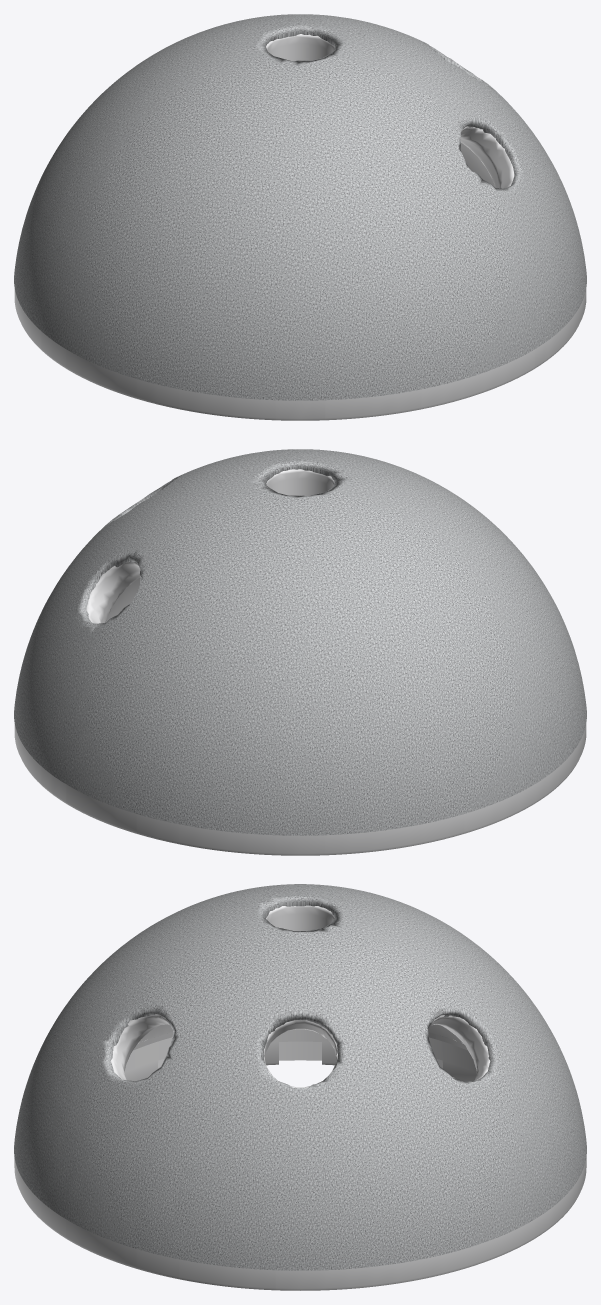
The model's file is cup_apex_tps_52_lod0.glb.
3 renders of one model, top to bottom at view 1: azimuth 30°, elevation 25°; view 2: azimuth 150°, elevation 25°; view 3: azimuth 270°, elevation 25°, orthographic.
Visible parts, largest first — view 1: cup_apex_tps_52; view 2: cup_apex_tps_52; view 3: cup_apex_tps_52.
Boxes of the visible parts, x1,y1,x2,y2 form: cup_apex_tps_52: (14, 14, 586, 420); cup_apex_tps_52: (14, 449, 586, 855); cup_apex_tps_52: (14, 884, 586, 1290).
Bounding box in the file's own units: 0.0518 × 0.0257 × 0.0518.
Materials: 2 (1 with a texture image).
